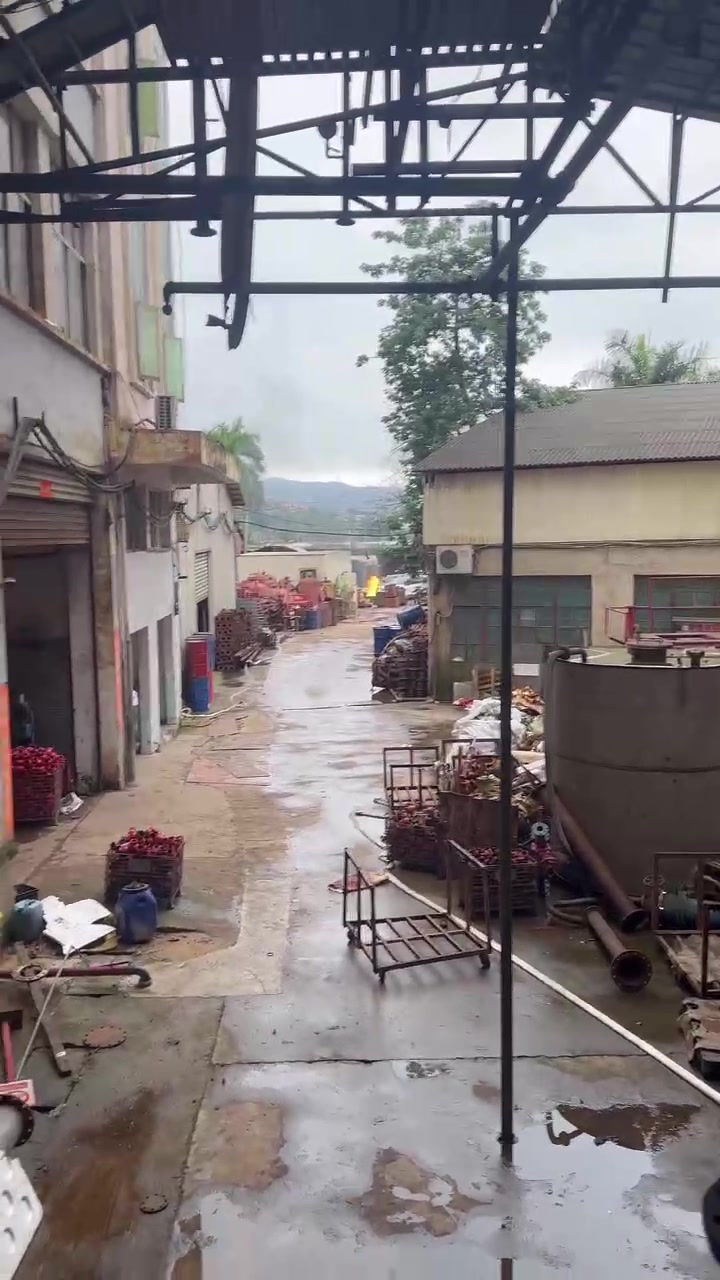fire: (363, 576, 378, 595)
